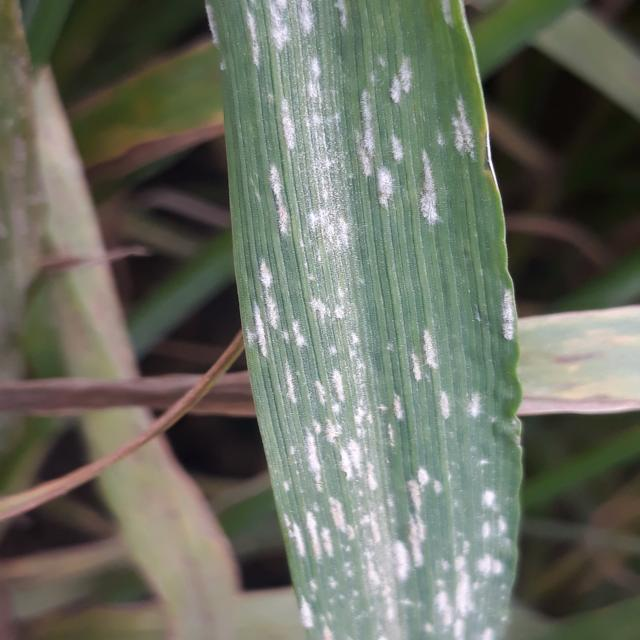powder_mildew: (205, 3, 527, 640), (0, 5, 149, 381), (80, 418, 233, 640), (519, 298, 640, 442)
